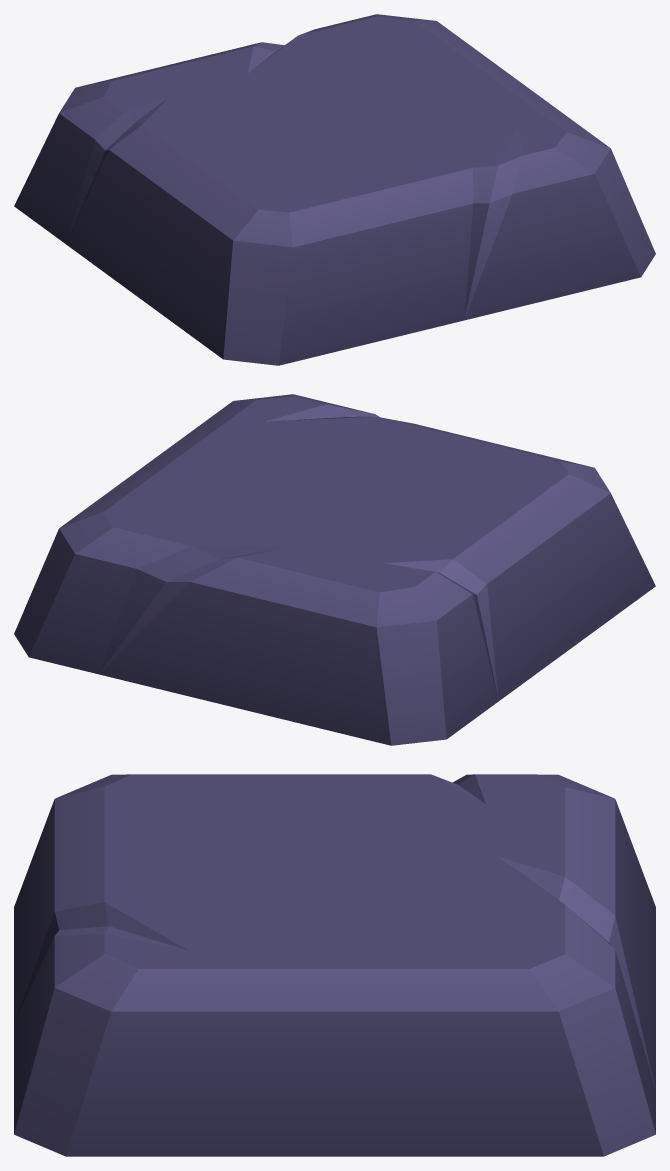
The model's file is tile_3.glb.
The picture shows the model from 3 angles, top to bottom: view 1: azimuth 30°, elevation 25°; view 2: azimuth 150°, elevation 25°; view 3: azimuth 270°, elevation 25°; orthographic projection. The views are drawn at different scales.
Parts seen in each view (by area): view 1: tile_3; view 2: tile_3; view 3: tile_3.
Part boxes in pixels (box(x1,y1,x2,y2)): tile_3: box(14, 14, 655, 365); tile_3: box(14, 394, 655, 745); tile_3: box(14, 774, 655, 1156).
Bounding box in the file's own units: 2 × 0.513 × 2.
Materials: 1 (1 with a texture image).
